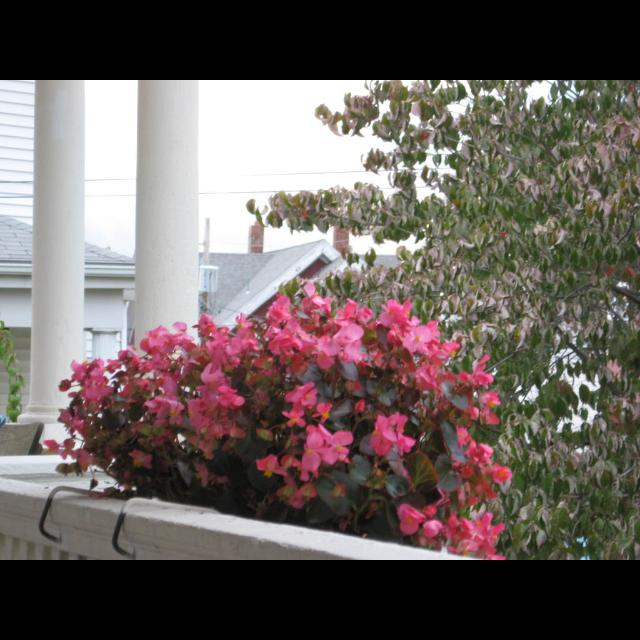Flower: (40, 278, 512, 560)
